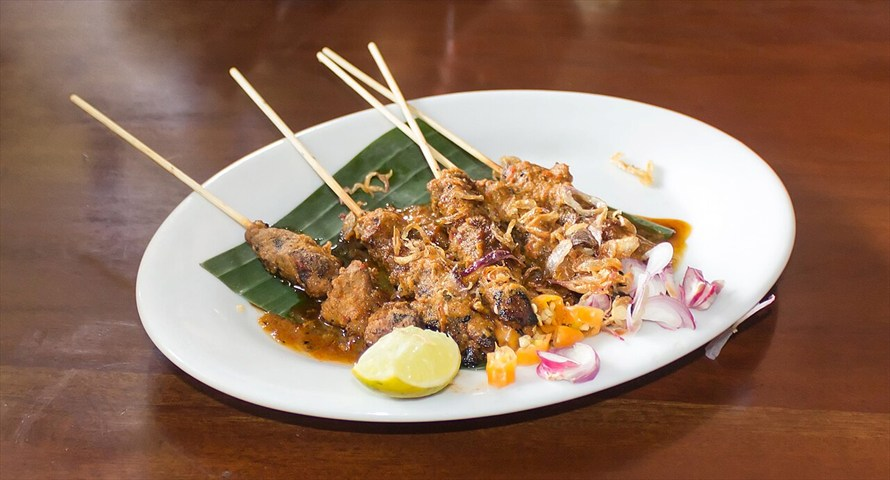Sate Ayam: (152, 75, 771, 417)
